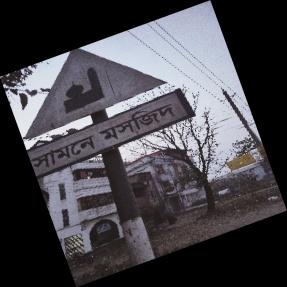Mosque in front: (22, 49, 190, 180)
